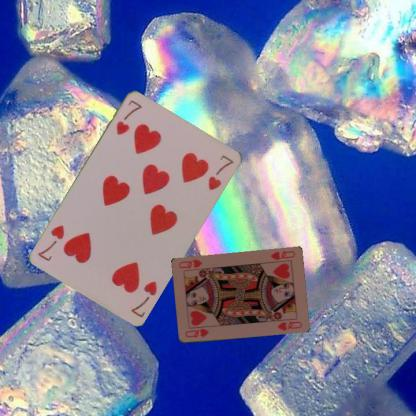7h: (114, 96, 144, 136), (128, 278, 158, 318)
Qh: (268, 248, 296, 261), (183, 326, 210, 339)
